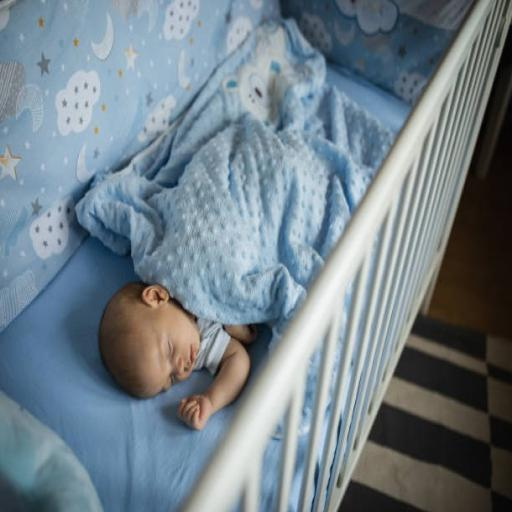baby: (99, 283, 256, 430)
crib: (0, 0, 511, 510)
